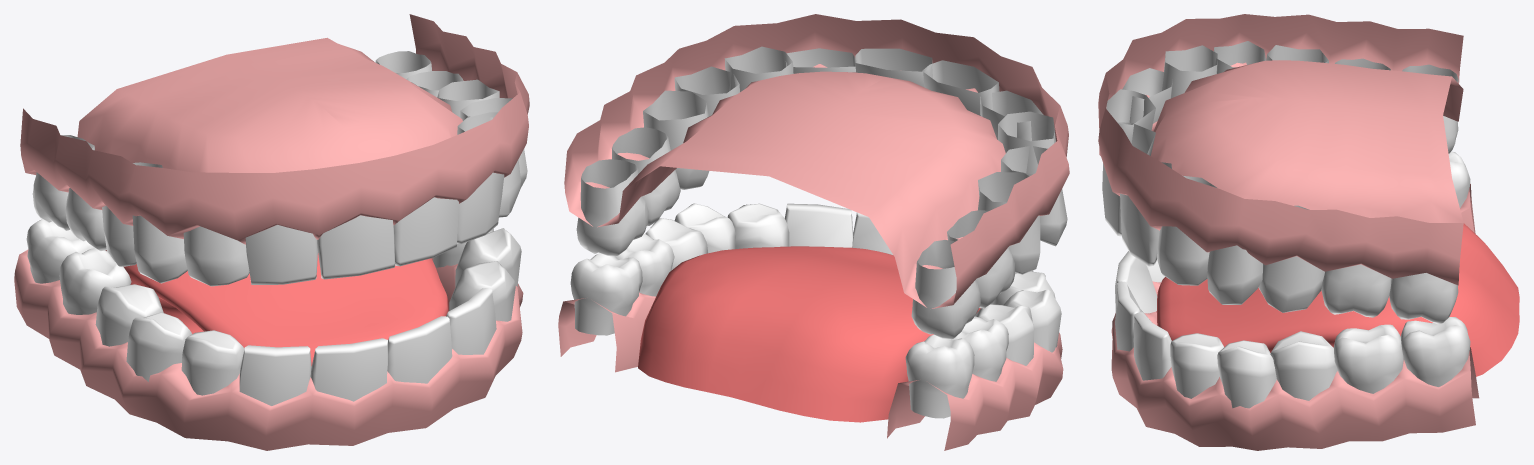
Rendered from teeth_cartoon.glb.
3 renders of one model, left to right at view 1: azimuth 30°, elevation 25°; view 2: azimuth 150°, elevation 25°; view 3: azimuth 270°, elevation 25°, orthographic.
Parts seen in each view (by area): view 1: polySurface1, teeth_OBJ1:polySurface31, polySurface3, teeth_OBJ1:Henry_GEO_GRPmouth_GRPHead_GRPlwr_gums, teeth_OBJ1:Henry_GEO_GRPtonguemouth_GRPHead_GRP; view 2: polySurface1, teeth_OBJ1:Henry_GEO_GRPtonguemouth_GRPHead_GRP, polySurface3, teeth_OBJ1:polySurface31, teeth_OBJ1:Henry_GEO_GRPmouth_GRPHead_GRPlwr_gums; view 3: polySurface1, polySurface3, teeth_OBJ1:polySurface31, teeth_OBJ1:Henry_GEO_GRPmouth_GRPHead_GRPlwr_gums, teeth_OBJ1:Henry_GEO_GRPtonguemouth_GRPHead_GRP.
Boxes of the visible parts, x1,y1,x2,y2 form: polySurface1: [20, 14, 529, 244]; teeth_OBJ1:polySurface31: [26, 219, 521, 405]; polySurface3: [32, 51, 527, 286]; teeth_OBJ1:Henry_GEO_GRPmouth_GRPHead_GRPlwr_gums: [14, 249, 523, 450]; teeth_OBJ1:Henry_GEO_GRPtonguemouth_GRPHead_GRP: [105, 250, 448, 365]; polySurface1: [564, 14, 1069, 308]; teeth_OBJ1:Henry_GEO_GRPtonguemouth_GRPHead_GRP: [638, 246, 980, 422]; polySurface3: [576, 46, 1067, 339]; teeth_OBJ1:polySurface31: [570, 203, 1061, 418]; teeth_OBJ1:Henry_GEO_GRPmouth_GRPHead_GRPlwr_gums: [558, 292, 1063, 450]; polySurface1: [1098, 14, 1463, 285]; polySurface3: [1102, 41, 1458, 324]; teeth_OBJ1:polySurface31: [1115, 151, 1470, 408]; teeth_OBJ1:Henry_GEO_GRPmouth_GRPHead_GRPlwr_gums: [1111, 183, 1479, 450]; teeth_OBJ1:Henry_GEO_GRPtonguemouth_GRPHead_GRP: [1156, 223, 1519, 376].
Bounding box in the file's own units: 0.0992 × 0.0652 × 0.0871.
